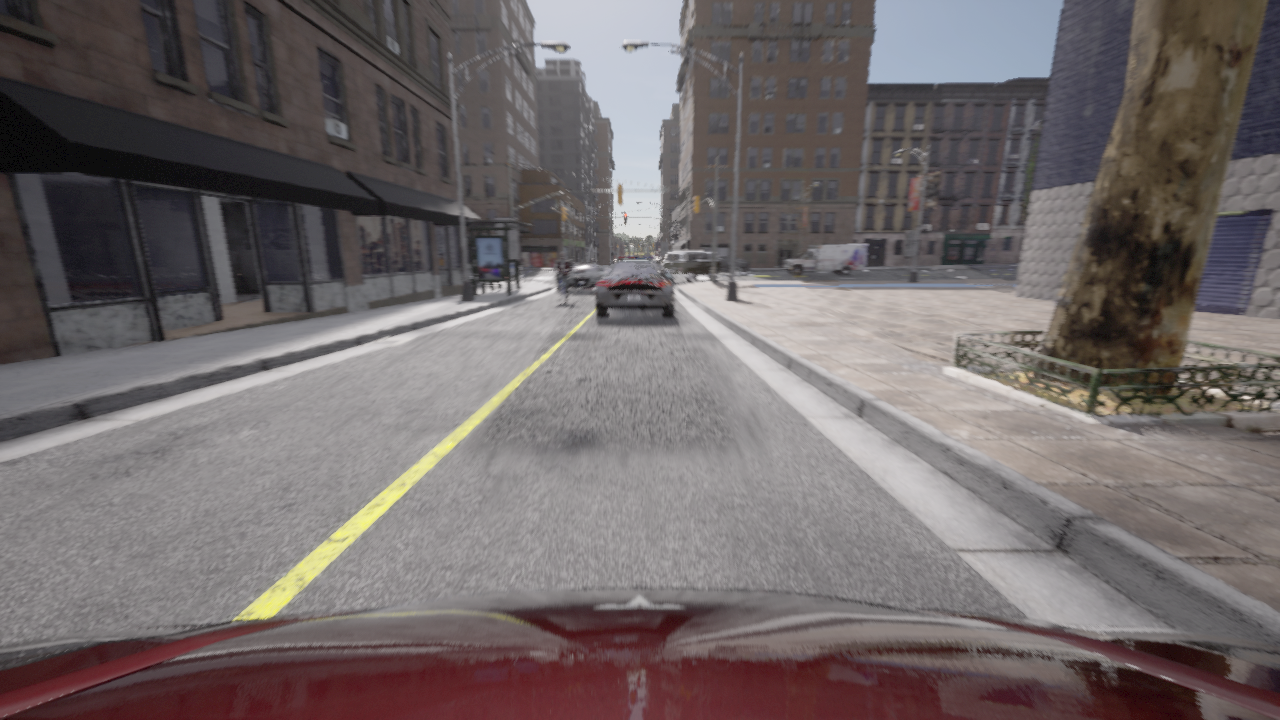cyclist: (0, 588, 1279, 719), (595, 257, 673, 317), (783, 244, 868, 275), (663, 250, 721, 282), (561, 263, 606, 291), (720, 256, 750, 275), (655, 261, 669, 279), (557, 275, 564, 305)
